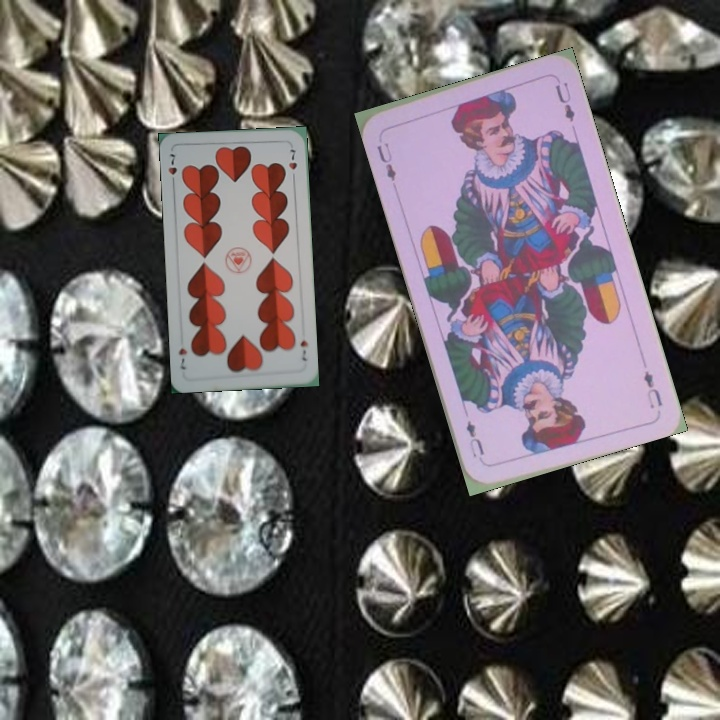EU: (372, 138, 399, 184), (639, 366, 665, 412)
H7: (164, 150, 180, 188), (296, 336, 310, 364)
